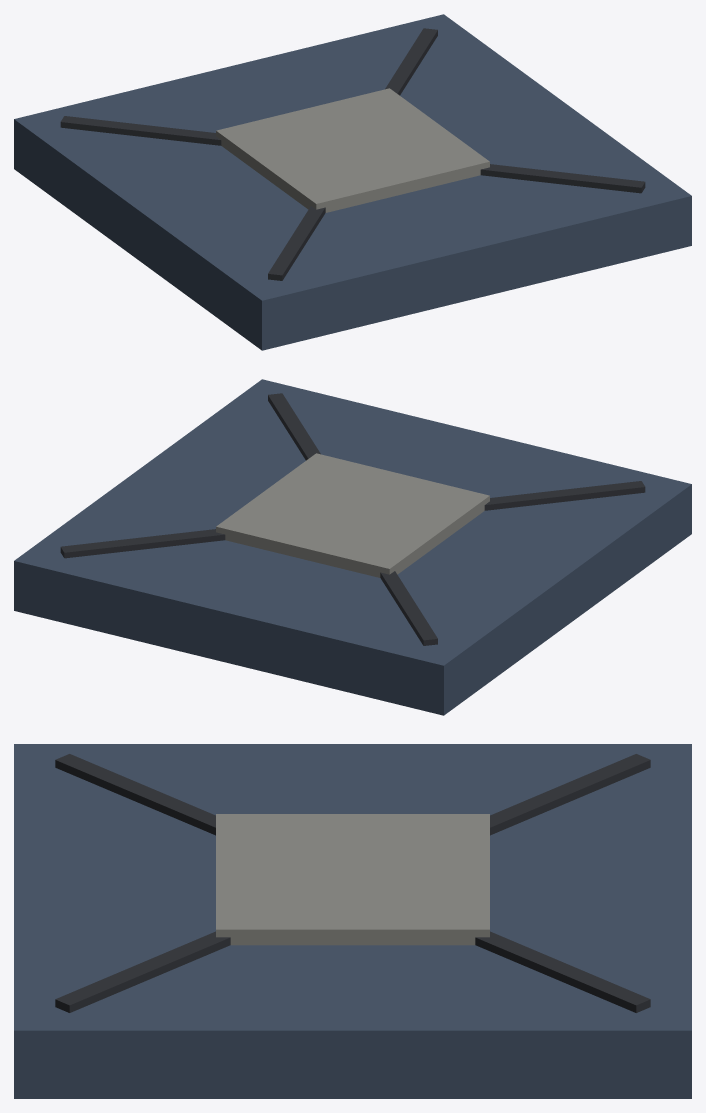
File: mp8_hatch_8.obj
3 renders of one model, top to bottom at view 1: azimuth 30°, elevation 25°; view 2: azimuth 150°, elevation 25°; view 3: azimuth 270°, elevation 25°, orthographic. The views are drawn at different scales.
Visible parts, largest first — view 1: mp8_hatch_8; view 2: mp8_hatch_8; view 3: mp8_hatch_8.
Boxes of the visible parts, box(x1,y1,x2,y2) form: mp8_hatch_8: box(14, 14, 691, 350); mp8_hatch_8: box(14, 379, 691, 715); mp8_hatch_8: box(14, 744, 691, 1098).
Size of the model in its own units: 0.198 by 0.027 by 0.198.
